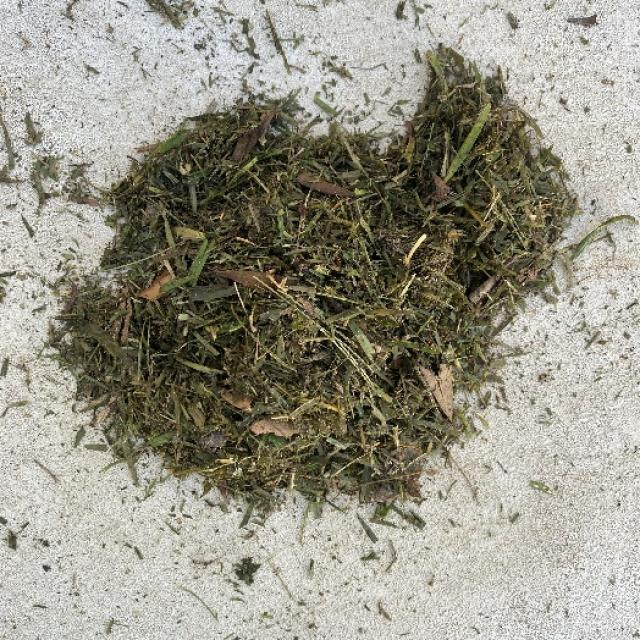organik: (80, 51, 574, 510)
